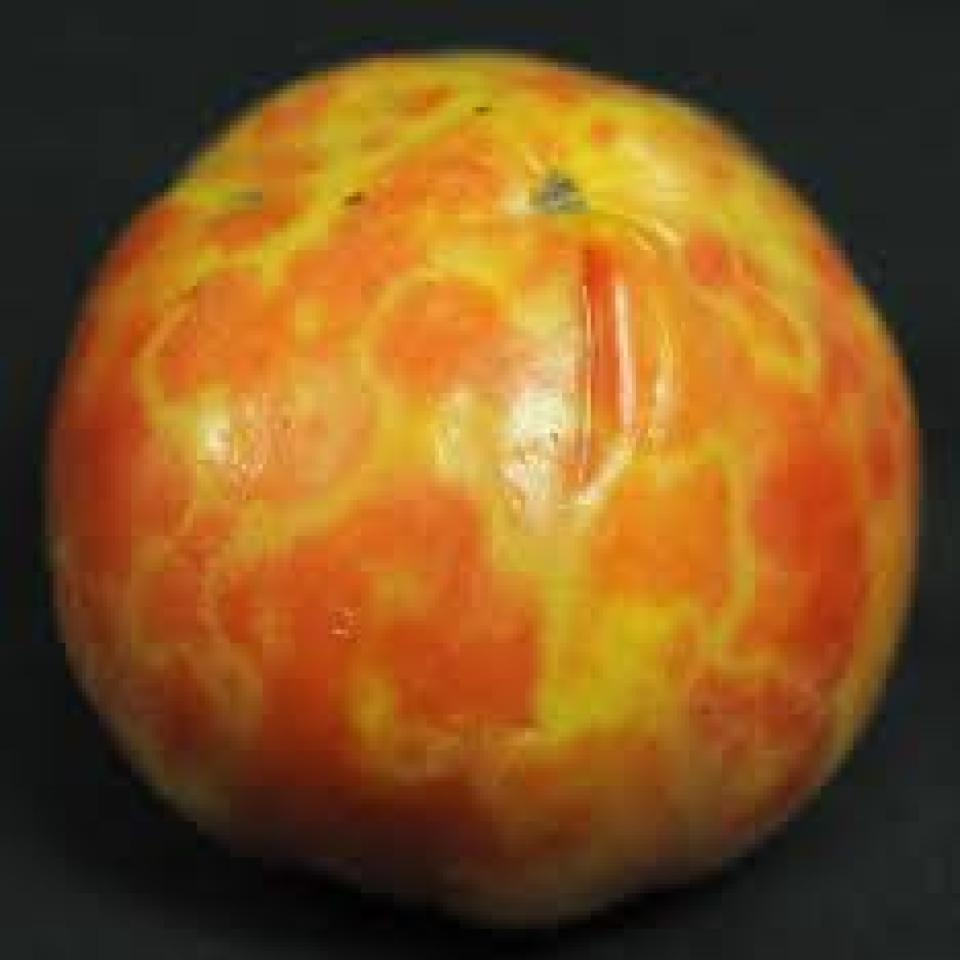Spotted wilt Virus: (45, 54, 923, 933)
